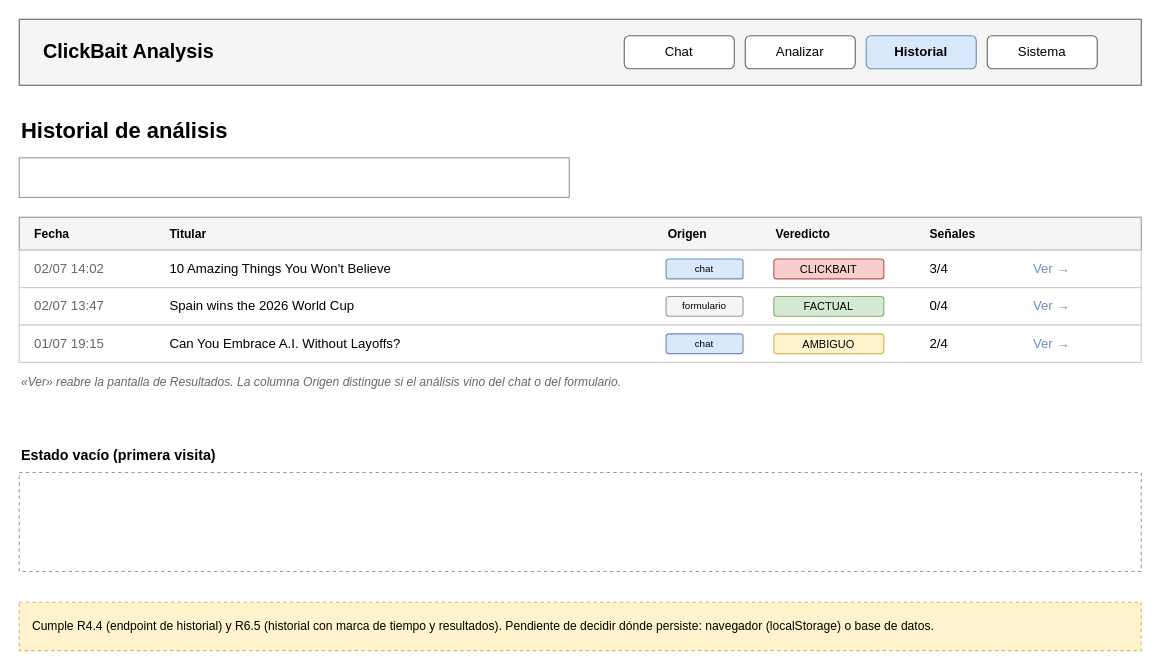
Image size: 1161x670. Some labels were removed from this diagram. The centre of each missing label's shape, as x and y in pixels:
"Aún no has analizado ningún titular." belongs at [579,521].
"Filtrar por titular..." belongs at [293,177].
